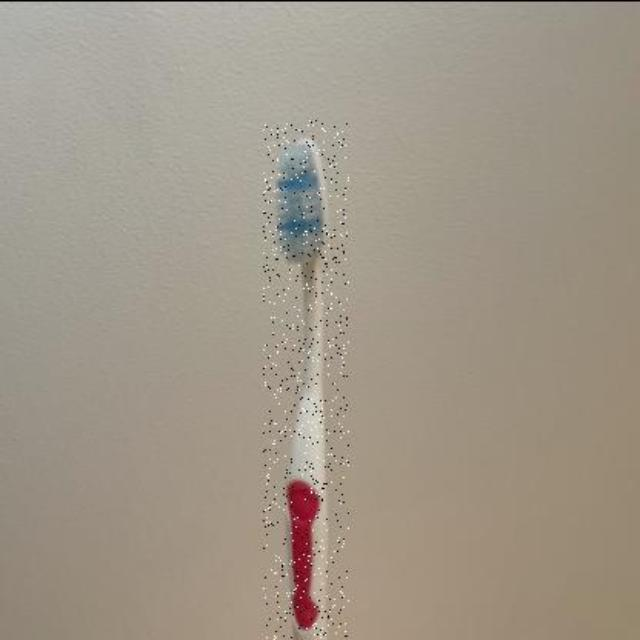toothbrush: (263, 118, 349, 640)
